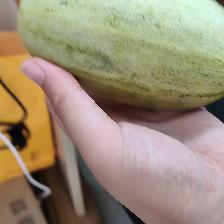gua: (72, 9, 209, 94)
